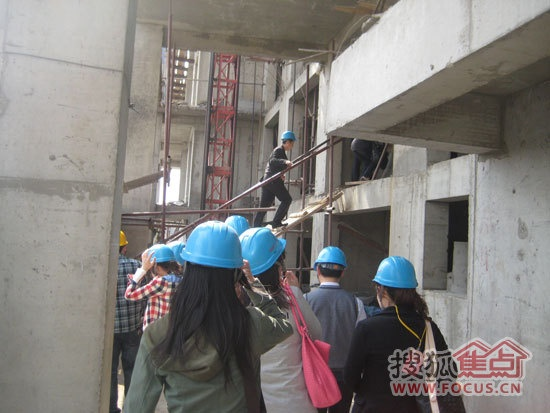blue: (176, 221, 243, 300), (237, 226, 288, 292), (370, 251, 419, 307), (313, 243, 347, 284), (143, 242, 173, 274), (278, 129, 296, 149)
